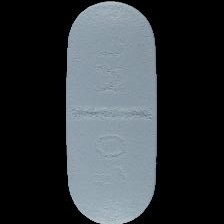0049-4900: (0, 0, 224, 224)
